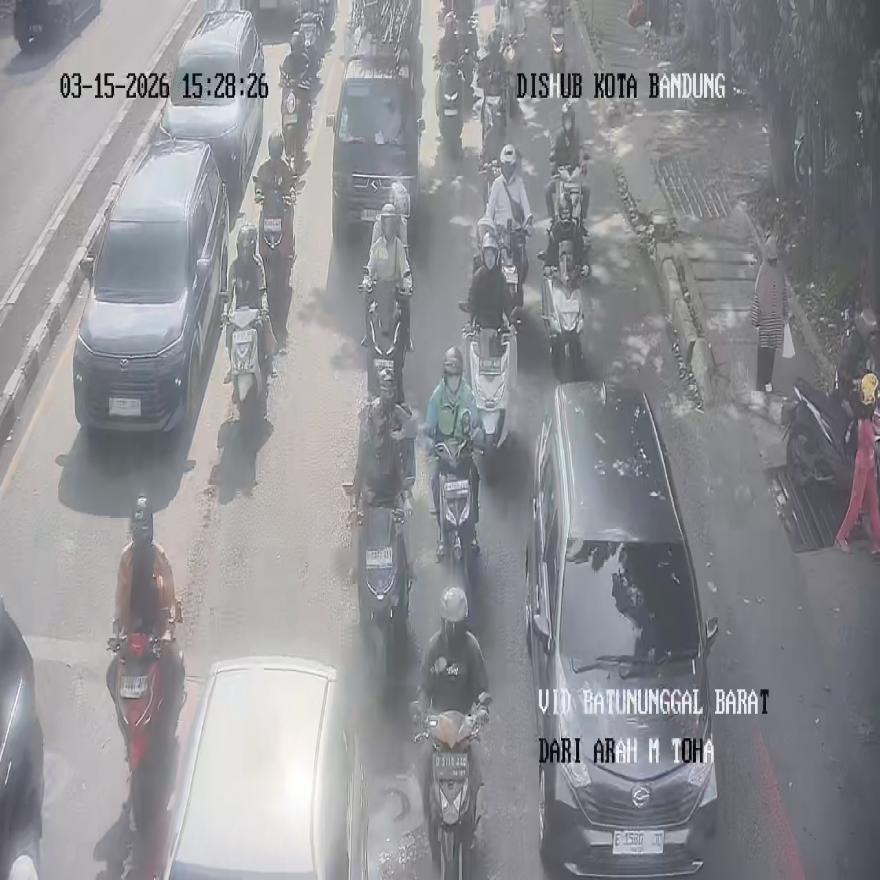Motor: (524, 380, 720, 875), (73, 131, 230, 431), (161, 655, 368, 878), (160, 10, 268, 204), (326, 52, 424, 241)
Truk: (110, 630, 185, 878), (411, 692, 490, 880), (358, 488, 413, 677), (780, 376, 857, 491), (431, 430, 479, 614), (458, 303, 514, 457), (359, 272, 410, 406), (834, 413, 880, 553), (542, 241, 583, 380), (225, 303, 266, 427), (258, 194, 294, 316), (281, 73, 310, 176), (500, 218, 528, 322), (296, 8, 326, 86), (480, 86, 506, 174), (438, 64, 463, 155), (550, 22, 564, 78)
